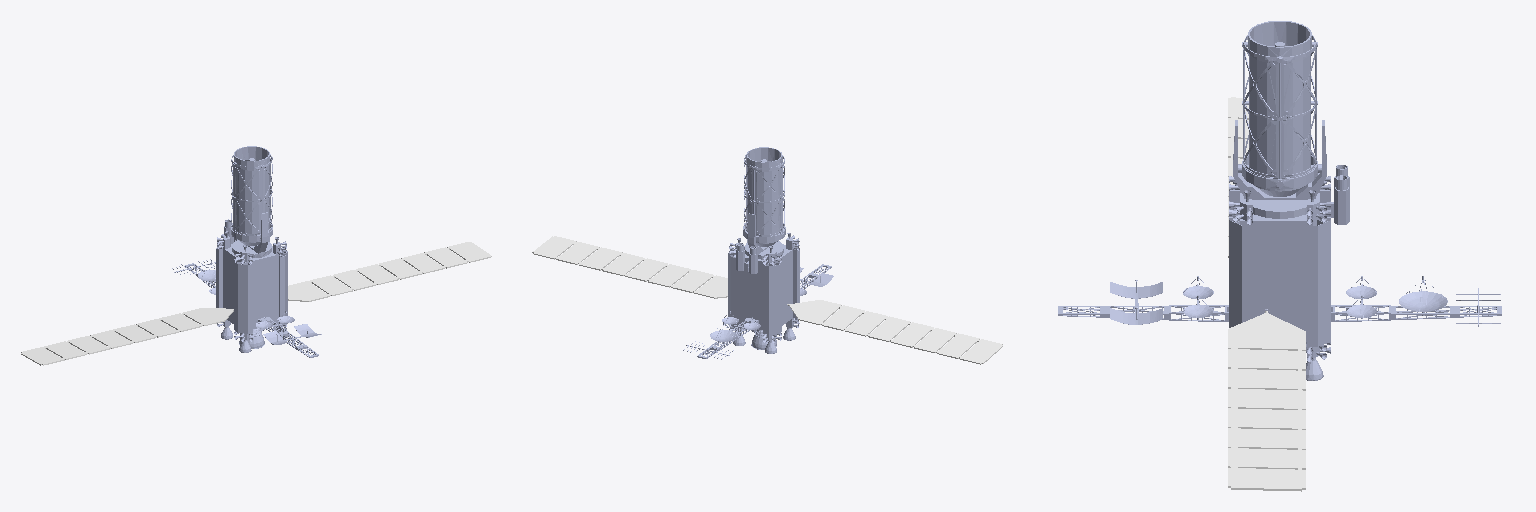
The robot description file, URDF, robot "卫星1号urdf.SLDASM":
<?xml version="1.0" encoding="utf-8"?>
<!-- This URDF was automatically created by SolidWorks to URDF Exporter! Originally created by Stephen Brawner (brawner@gmail.com) 
     Commit Version: 1.6.0-4-g7f85cfe  Build Version: 1.6.7995.38578
     For more information, please see http://wiki.ros.org/sw_urdf_exporter -->
<robot
  name="卫星1号urdf.SLDASM">
  <link
    name="base_link">
    <inertial>
      <origin
        xyz="-0.0021734 0.01739 1.8681"
        rpy="0 0 0" />
      <mass
        value="12177" />
      <inertia
        ixx="24010"
        ixy="22.551"
        ixz="-5.9494"
        iyy="22718"
        iyz="-26.782"
        izz="7737.8" />
    </inertial>
    <visual>
      <origin
        xyz="0 0 0"
        rpy="0 0 0" />
      <geometry>
        <mesh
          filename="package://卫星1号urdf.SLDASM/meshes/base_link.STL" />
      </geometry>
      <material
        name="">
        <color
          rgba="0.79216 0.81961 0.93333 0.25" />
      </material>
    </visual>
    <collision>
      <origin
        xyz="0 0 0"
        rpy="0 0 0" />
      <geometry>
        <mesh
          filename="package://卫星1号urdf.SLDASM/meshes/base_link.STL" />
      </geometry>
    </collision>
  </link>
  <link
    name="taiyangban_Link">
    <inertial>
      <origin
        xyz="-2.81413785386819E-05 -0.00098378177057673 4.93893038676484"
        rpy="0 0 0" />
      <mass
        value="738.165777813078" />
      <inertia
        ixx="5127.11940243927"
        ixy="-5.2573675695612"
        ixz="0.0045557067928942"
        iyy="4943.47984737629"
        iyz="0.159260900777422"
        izz="184.248094037069" />
    </inertial>
    <visual>
      <origin
        xyz="0 0 0"
        rpy="0 0 0" />
      <geometry>
        <mesh
          filename="package://卫星1号urdf.SLDASM/meshes/taiyangban_Link.STL" />
      </geometry>
      <material
        name="">
        <color
          rgba="1 1 1 1" />
      </material>
    </visual>
    <collision>
      <origin
        xyz="0 0 0"
        rpy="0 0 0" />
      <geometry>
        <mesh
          filename="package://卫星1号urdf.SLDASM/meshes/taiyangban_Link.STL" />
      </geometry>
    </collision>
  </link>
  <joint
    name="tyb1"
    type="continuous">
    <origin
      xyz="0.92 -0.3 0.775"
      rpy="0 1.5708 0" />
    <parent
      link="base_link" />
    <child
      link="taiyangban_Link" />
    <axis
      xyz="0 0 -1" />
  </joint>
  <link
    name="taiyangban2_Link">
    <inertial>
      <origin
        xyz="0 0 0"
        rpy="0 0 0" />
      <mass
        value="0" />
      <inertia
        ixx="0"
        ixy="0"
        ixz="0"
        iyy="0"
        iyz="0"
        izz="0" />
    </inertial>
    <visual>
      <origin
        xyz="0 0 0"
        rpy="0 0 0" />
      <geometry>
        <mesh
          filename="package://卫星1号urdf.SLDASM/meshes/taiyangban2_Link.STL" />
      </geometry>
      <material
        name="">
        <color
          rgba="1 1 1 1" />
      </material>
    </visual>
    <collision>
      <origin
        xyz="0 0 0"
        rpy="0 0 0" />
      <geometry>
        <mesh
          filename="package://卫星1号urdf.SLDASM/meshes/taiyangban2_Link.STL" />
      </geometry>
    </collision>
  </link>
  <joint
    name="tyb2"
    type="continuous">
    <origin
      xyz="-0.9 -0.3 0.775"
      rpy="3.1416 1.5708 0" />
    <parent
      link="base_link" />
    <child
      link="taiyangban2_Link" />
    <axis
      xyz="0 0 1" />
  </joint>
</robot>

--- Render facts (derived) ---
The picture shows the robot from 3 angles, left to right: view 1: azimuth 30°, elevation 25°; view 2: azimuth 150°, elevation 25°; view 3: azimuth 270°, elevation 25°; orthographic projection.
Model 卫星1号urdf.SLDASM with 3 links and 2 joints (2 continuous), rooted at base_link, posed every joint at zero.
Visible links, largest first — view 1: base_link, taiyangban_Link, taiyangban2_Link; view 2: base_link, taiyangban2_Link, taiyangban_Link; view 3: base_link, taiyangban_Link, taiyangban2_Link.
Boxes of the visible links, box(x1,y1,x2,y2) form: base_link: box(172, 146, 321, 357); taiyangban_Link: box(288, 242, 491, 301); taiyangban2_Link: box(21, 308, 233, 365); base_link: box(683, 147, 833, 359); taiyangban2_Link: box(787, 300, 1002, 364); taiyangban_Link: box(532, 236, 727, 298); base_link: box(1058, 21, 1501, 380); taiyangban_Link: box(1228, 311, 1305, 491); taiyangban2_Link: box(1228, 97, 1248, 257).
Size in the robot's own frame: 20.61 by 9.94 by 8.3 metres.
3 mesh visuals loaded from 3 distinct referenced files (3 binary STL).
